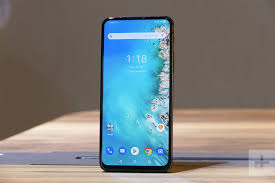asus: (96, 13, 177, 173)
